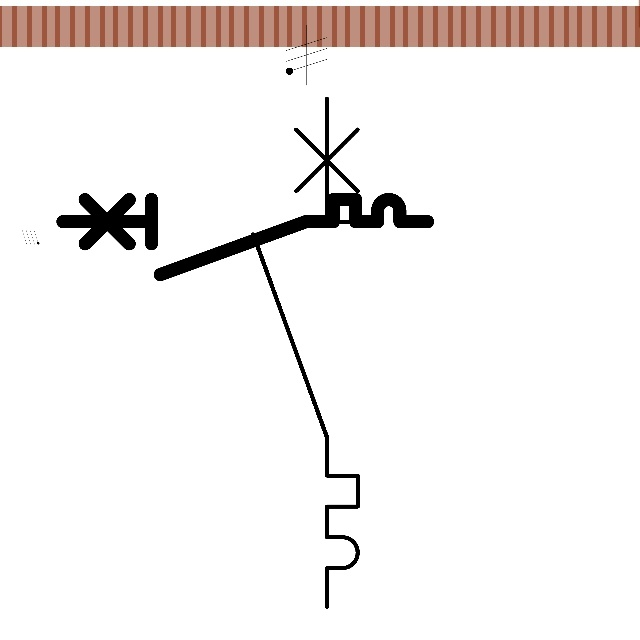interruptor_termomagnetico: (240, 85, 371, 620), (53, 190, 437, 284)
